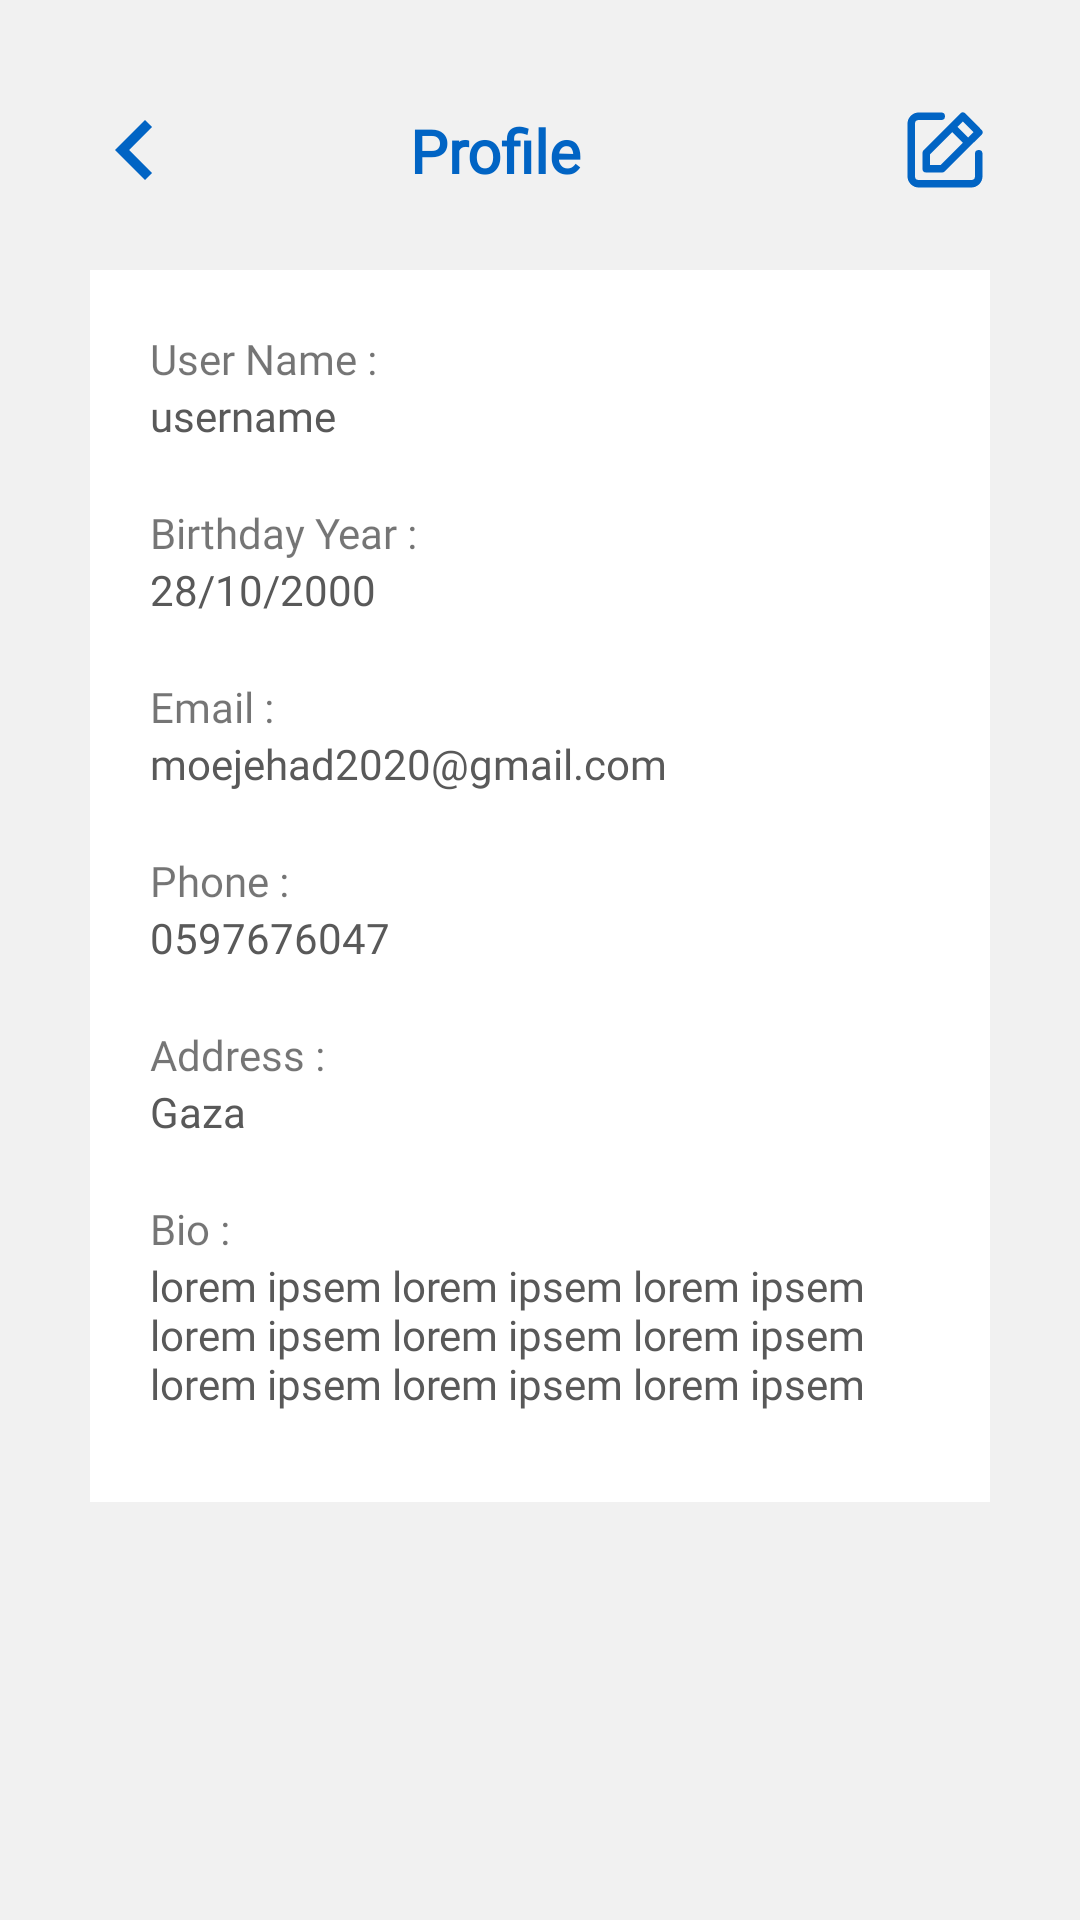

Icons on this 1080 × 1920 Android screen, each with the point to tap as (x=x, y=y):
edit: (x=945, y=150)
left: (x=133, y=150)
